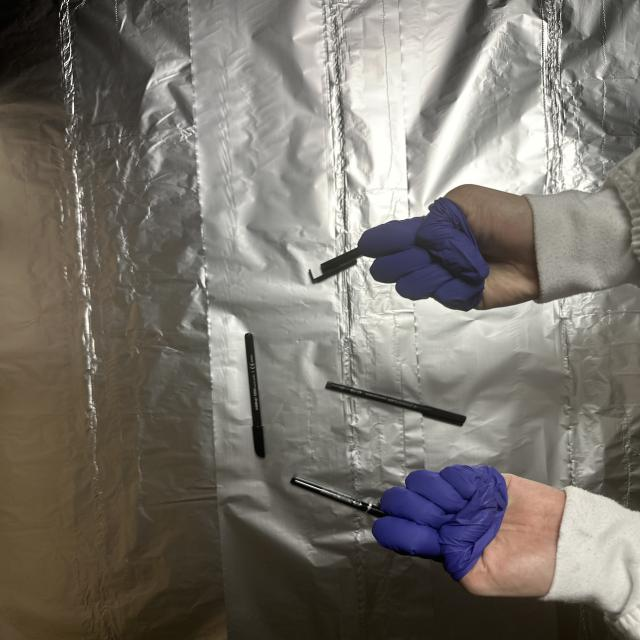glove_partial: (376, 462, 569, 599), (358, 182, 548, 311)
